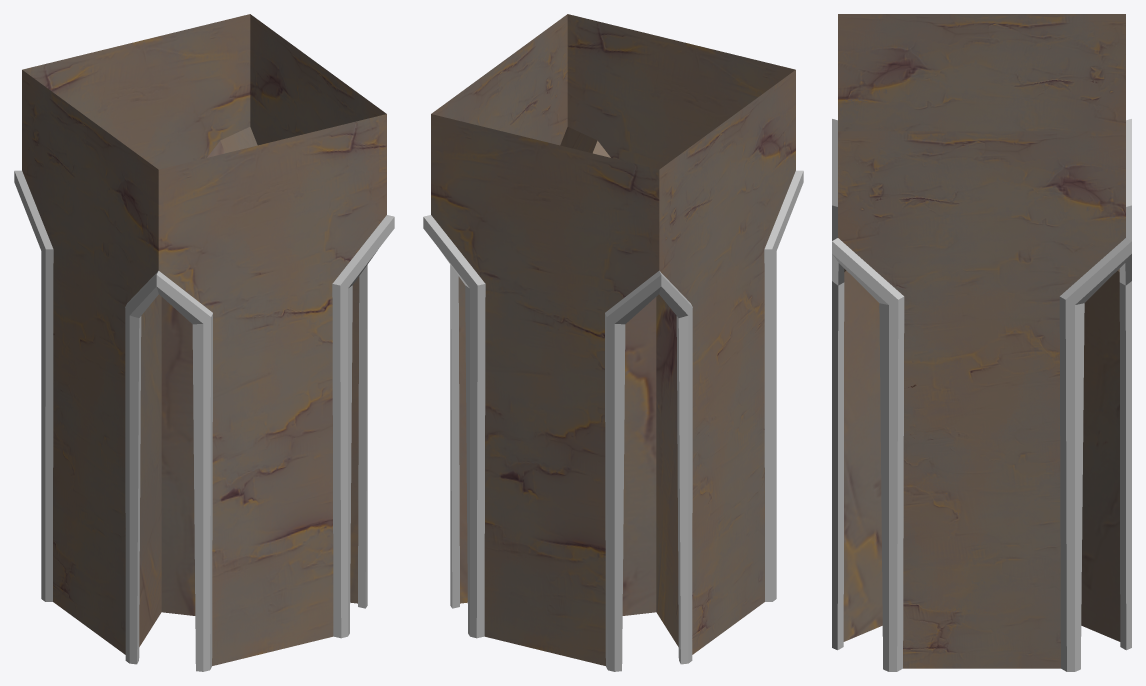
The model's file is prop_BottomDetail.fbx.
3 renders of one model, left to right at view 1: azimuth 30°, elevation 25°; view 2: azimuth 150°, elevation 25°; view 3: azimuth 270°, elevation 25°, orthographic. The views are drawn at different scales.
Parts seen in each view (by area): view 1: prop_BottomDetail; view 2: prop_BottomDetail; view 3: prop_BottomDetail.
Part boxes in pixels (bbox=[...]): prop_BottomDetail: bbox=[14, 14, 394, 671]; prop_BottomDetail: bbox=[423, 14, 803, 671]; prop_BottomDetail: bbox=[832, 14, 1131, 671].
Bounding box in the file's own units: 796 × 1631 × 824.
